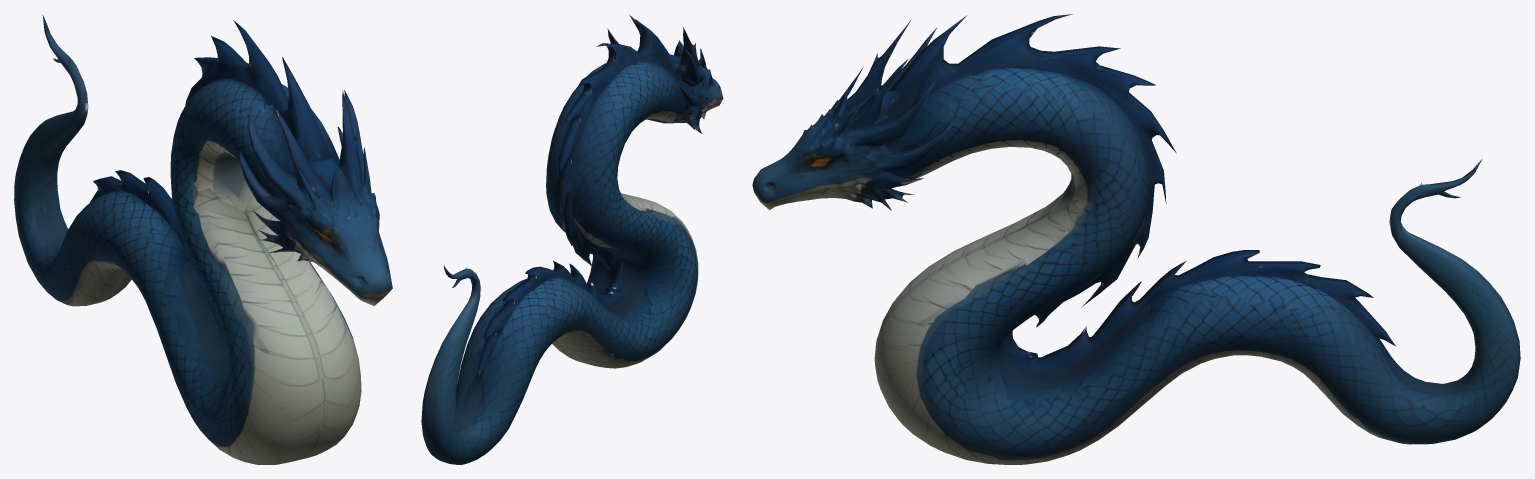
Rendered from Bakunawa.fbx.
The picture shows the model from 3 angles, left to right: view 1: azimuth 30°, elevation 25°; view 2: azimuth 150°, elevation 25°; view 3: azimuth 270°, elevation 25°; orthographic projection. The views are drawn at different scales.
Visible parts, largest first — view 1: model; view 2: model; view 3: model.
Part boxes in pixels (box(x1,y1,x2,y2)): model: box(14, 14, 392, 464); model: box(421, 14, 723, 464); model: box(752, 14, 1520, 464).
Bounding box in the file's own units: 305 × 997 × 1581.
1 material, 1 textured.
